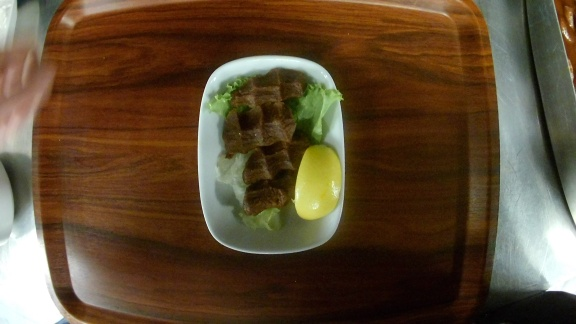cigkofte: (198, 54, 346, 254)
